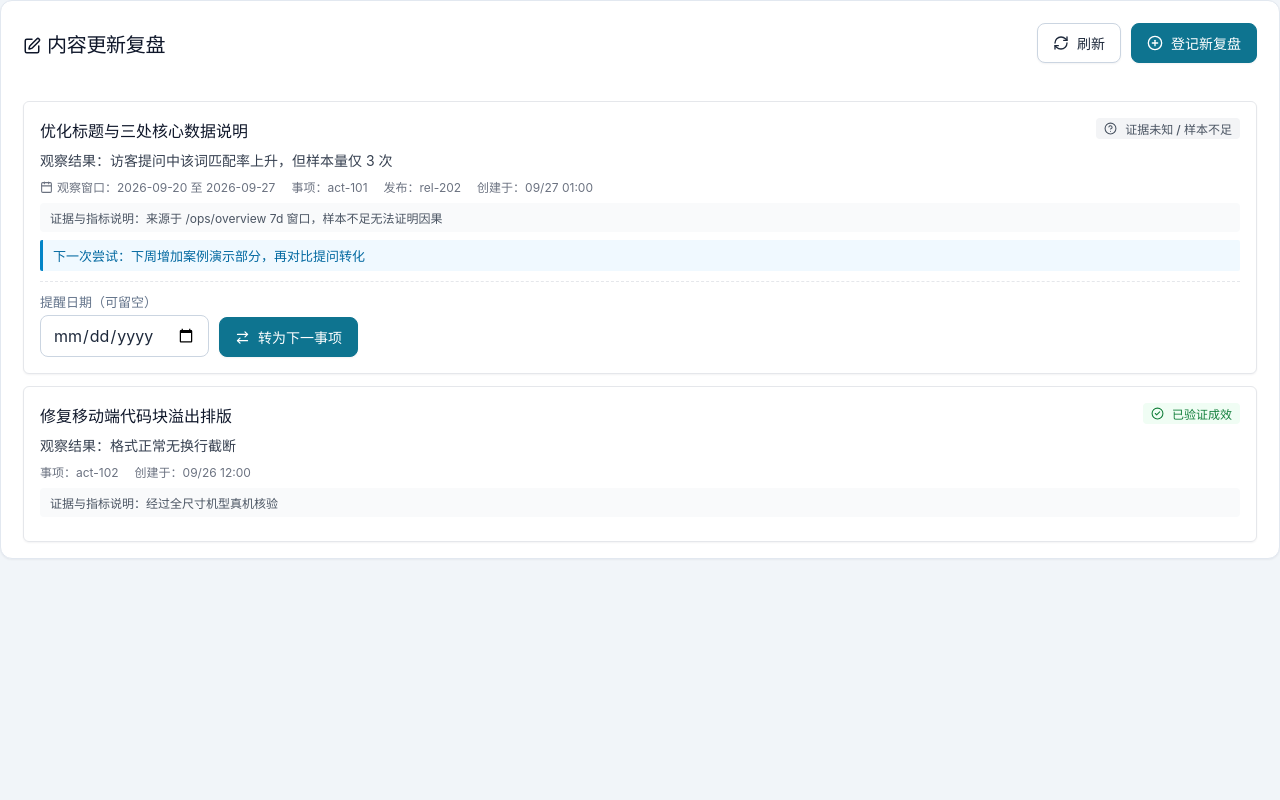
Scenario: ContentReviewPanel (O08 内容更新复盘) › 转换幂等回放：replayed=true 时如实提示不谎称又执行了一次
Click the button "转为下一事项" at (288, 337), box [219, 317, 358, 357]
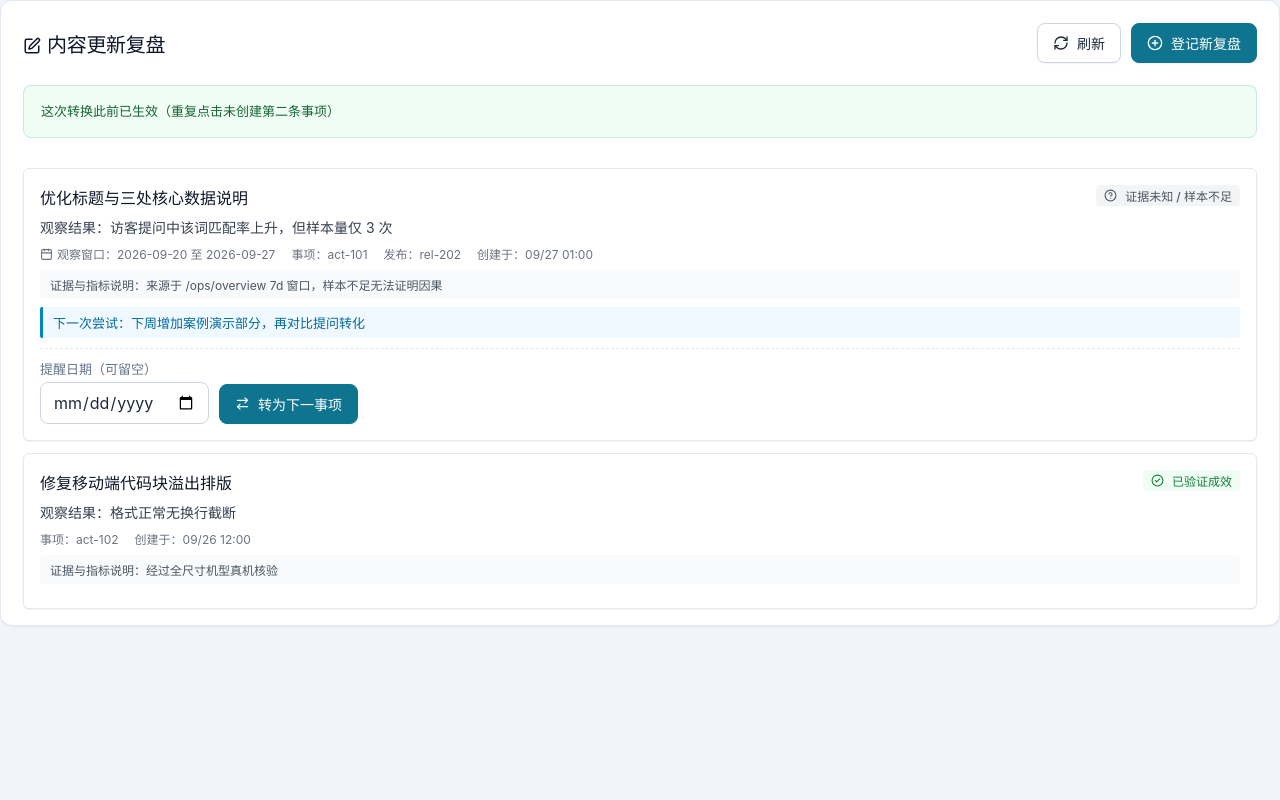
Now the text "这次转换此前已生效（重复点击未创建第二条事项）" is shown, box [23, 85, 1257, 138]
